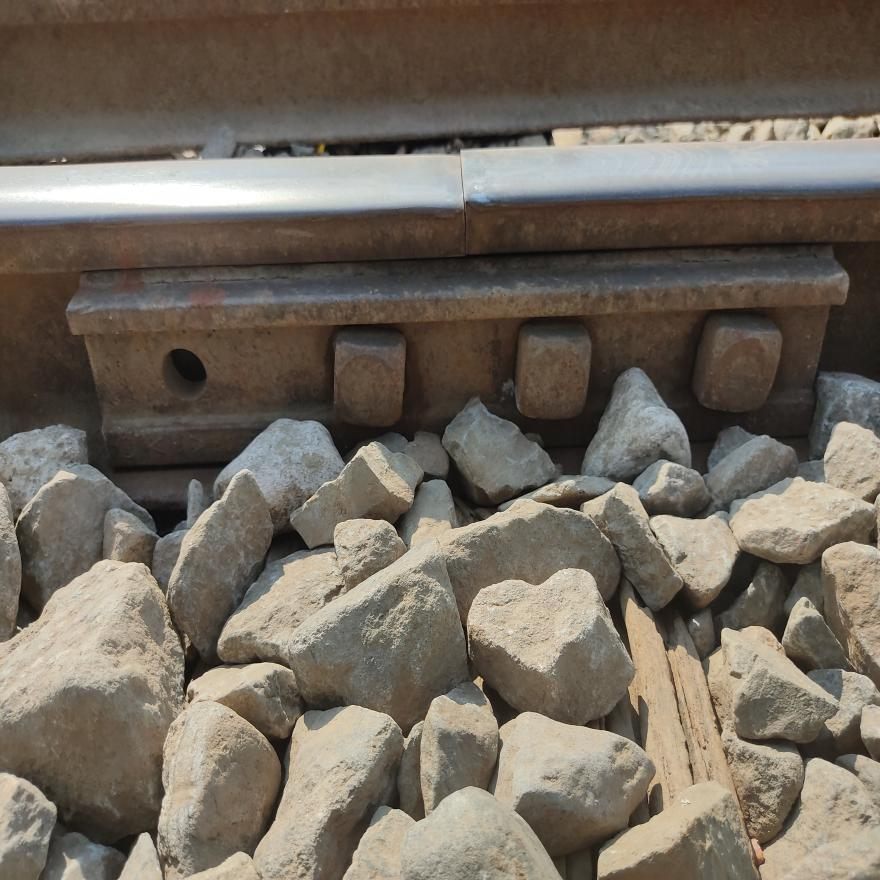railway-gap: (362, 86, 566, 313)
